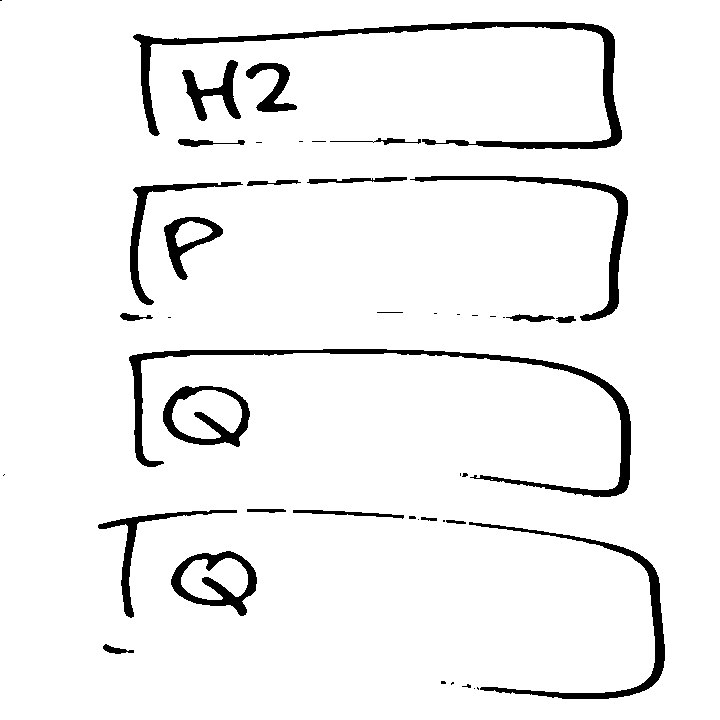heading2: (132, 19, 631, 156)
paragraph: (118, 171, 631, 334)
search bar: (105, 507, 670, 701), (116, 345, 656, 501)
